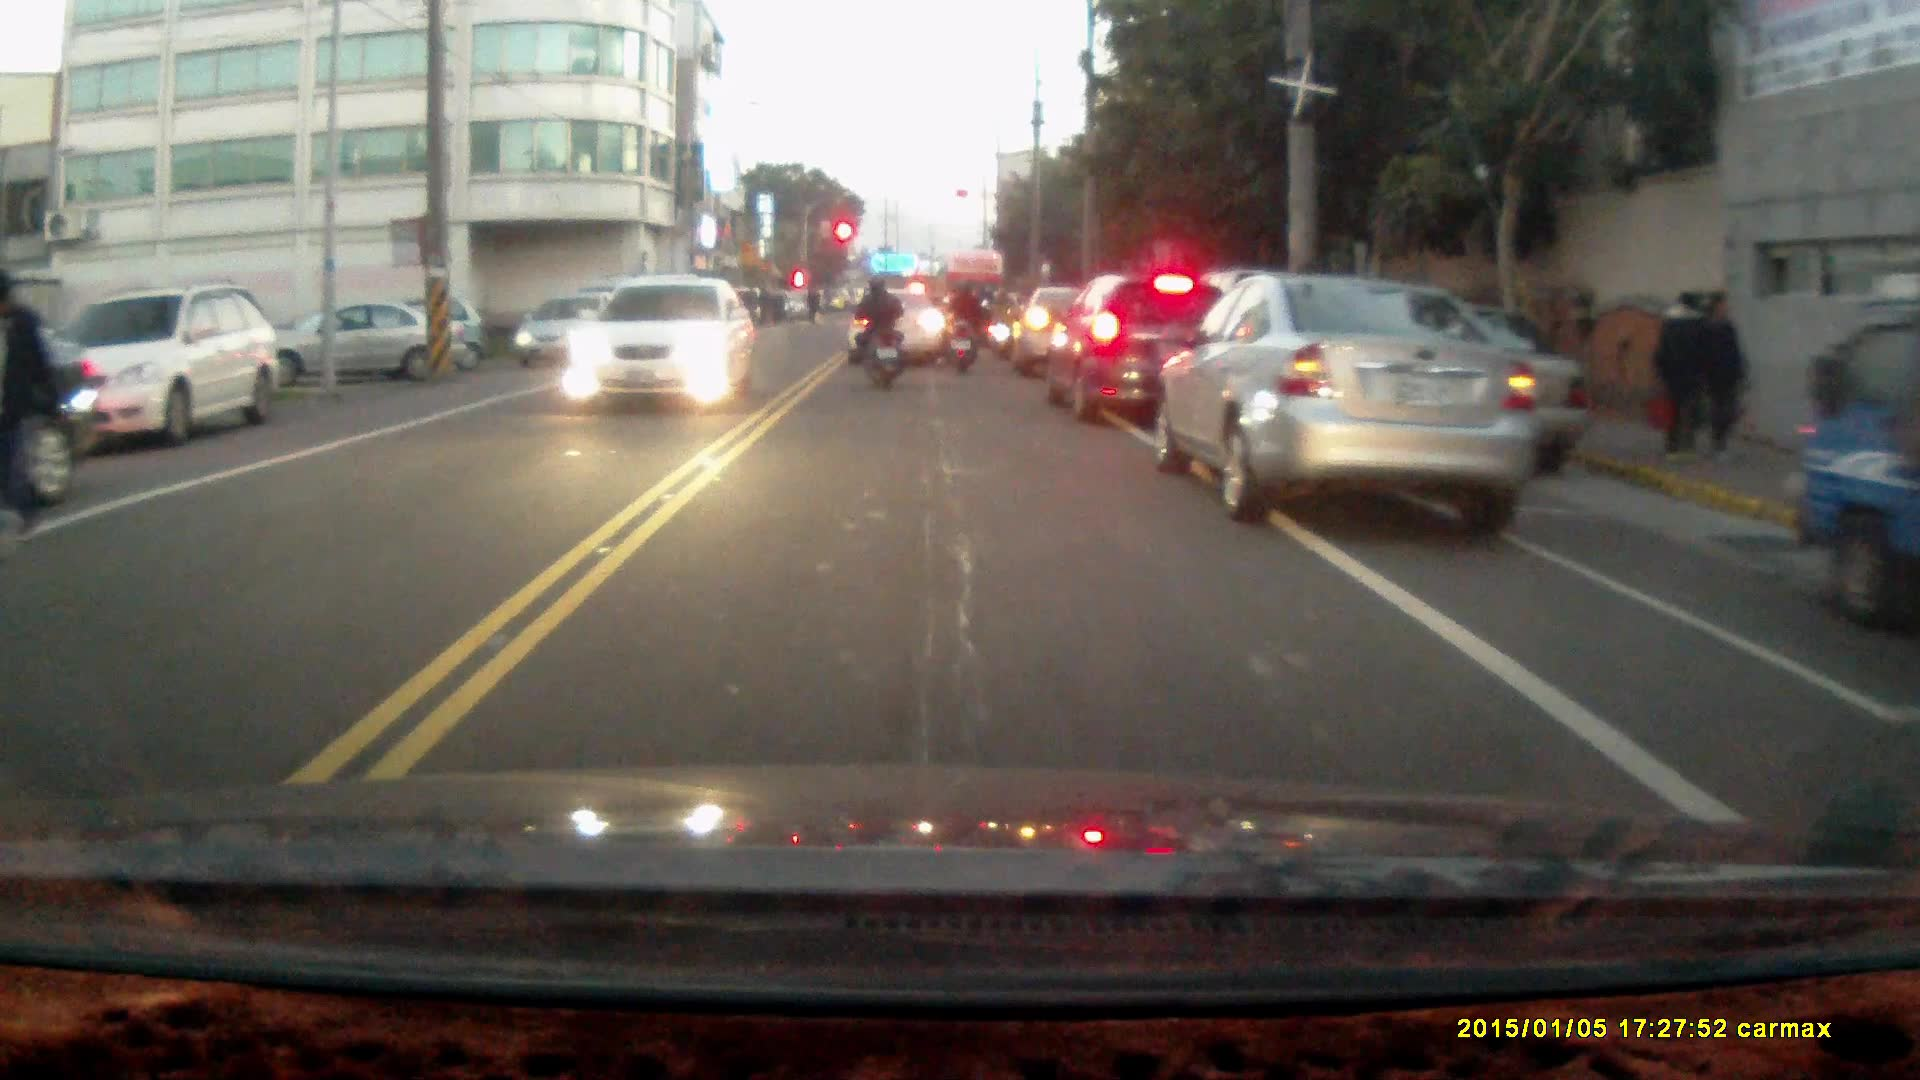pedestrian: (1651, 291, 1709, 465), (1697, 292, 1750, 460)
rider: (850, 269, 903, 386), (939, 275, 988, 370)
vehicle: (1154, 271, 1545, 538), (1784, 297, 1920, 629), (26, 285, 287, 452), (1046, 274, 1226, 426), (562, 275, 756, 413), (1, 320, 101, 525), (268, 299, 470, 382), (520, 290, 631, 373), (850, 291, 953, 368)
